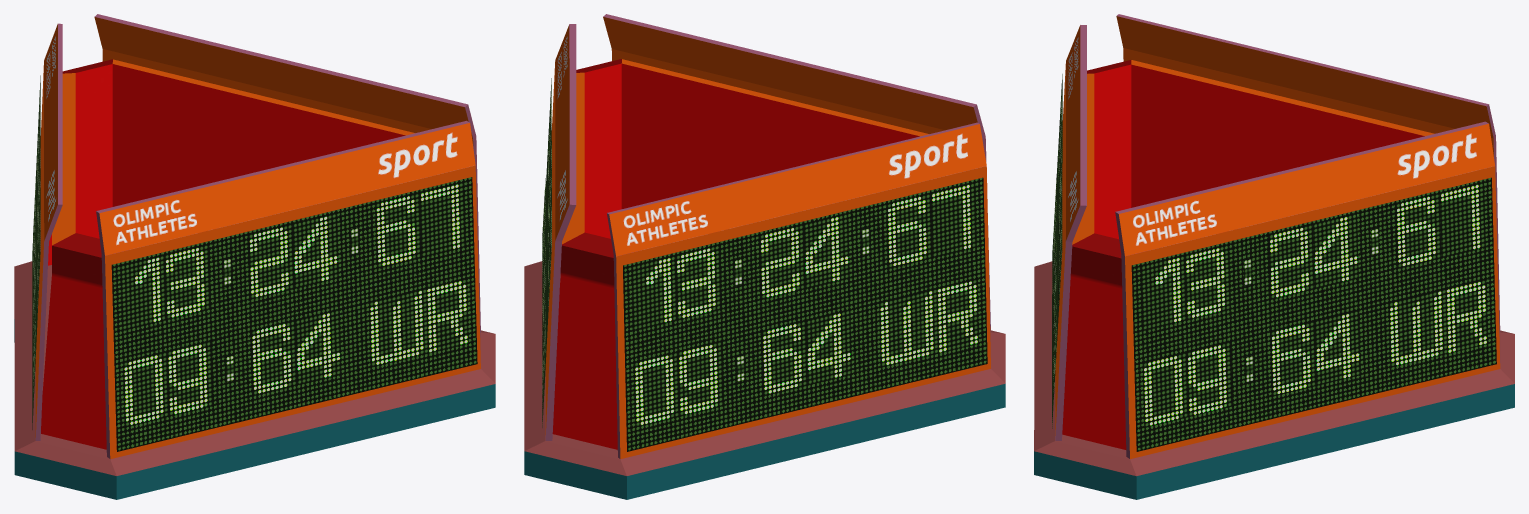
The model's file is Info_Clock.FBX.
3 views of the same model, side by side, from view 1: azimuth 30°, elevation 25°; view 2: azimuth 150°, elevation 25°; view 3: azimuth 270°, elevation 25° (orthographic).
Visible parts, largest first — view 1: Info_Clock, Info_Clock_numbers; view 2: Info_Clock, Info_Clock_numbers; view 3: Info_Clock, Info_Clock_numbers.
Boxes of the visible parts, box(x1,y1,x2,y2) form: Info_Clock: box(14, 14, 495, 499); Info_Clock_numbers: box(33, 85, 468, 427); Info_Clock: box(524, 14, 1005, 499); Info_Clock_numbers: box(542, 80, 978, 427); Info_Clock: box(1034, 14, 1514, 499); Info_Clock_numbers: box(1053, 83, 1487, 427).
Bounding box in the file's own units: 32.67 × 17.43 × 28.31.
